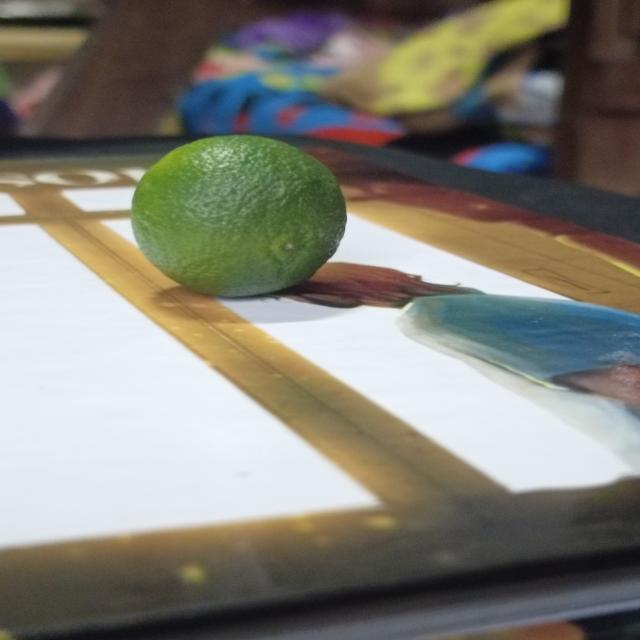heathy: (122, 130, 353, 300)
